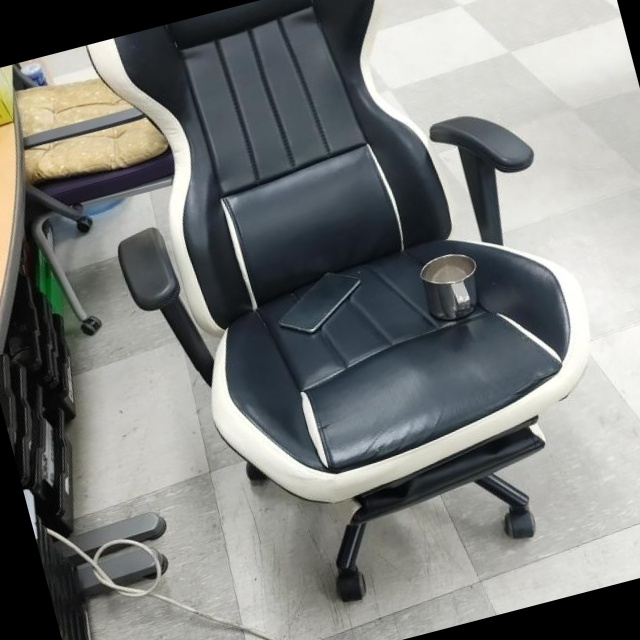cup: (415, 245, 490, 329)
phone: (268, 262, 371, 344)
